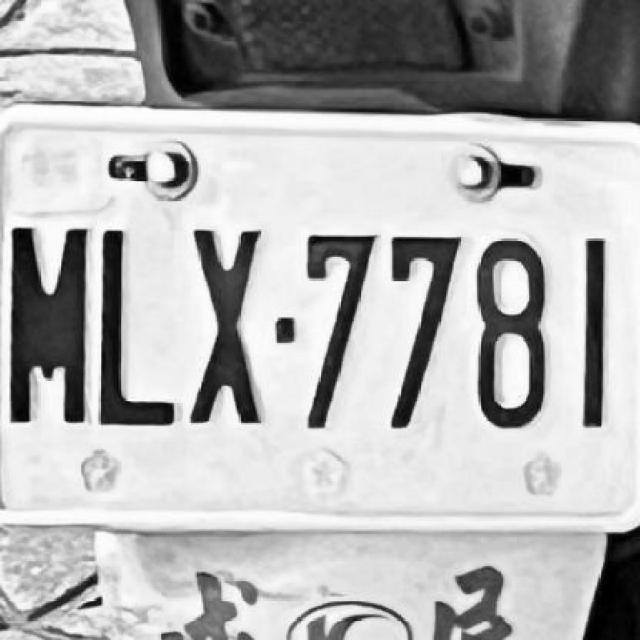-: (276, 317, 298, 341)
1: (577, 234, 614, 426)
6: (278, 604, 323, 640)
7: (382, 231, 463, 432), (303, 229, 379, 428)
8: (474, 234, 551, 435)
L: (97, 223, 188, 426)
M: (6, 228, 92, 423)
P: (430, 580, 508, 638)
X: (189, 225, 268, 426)
